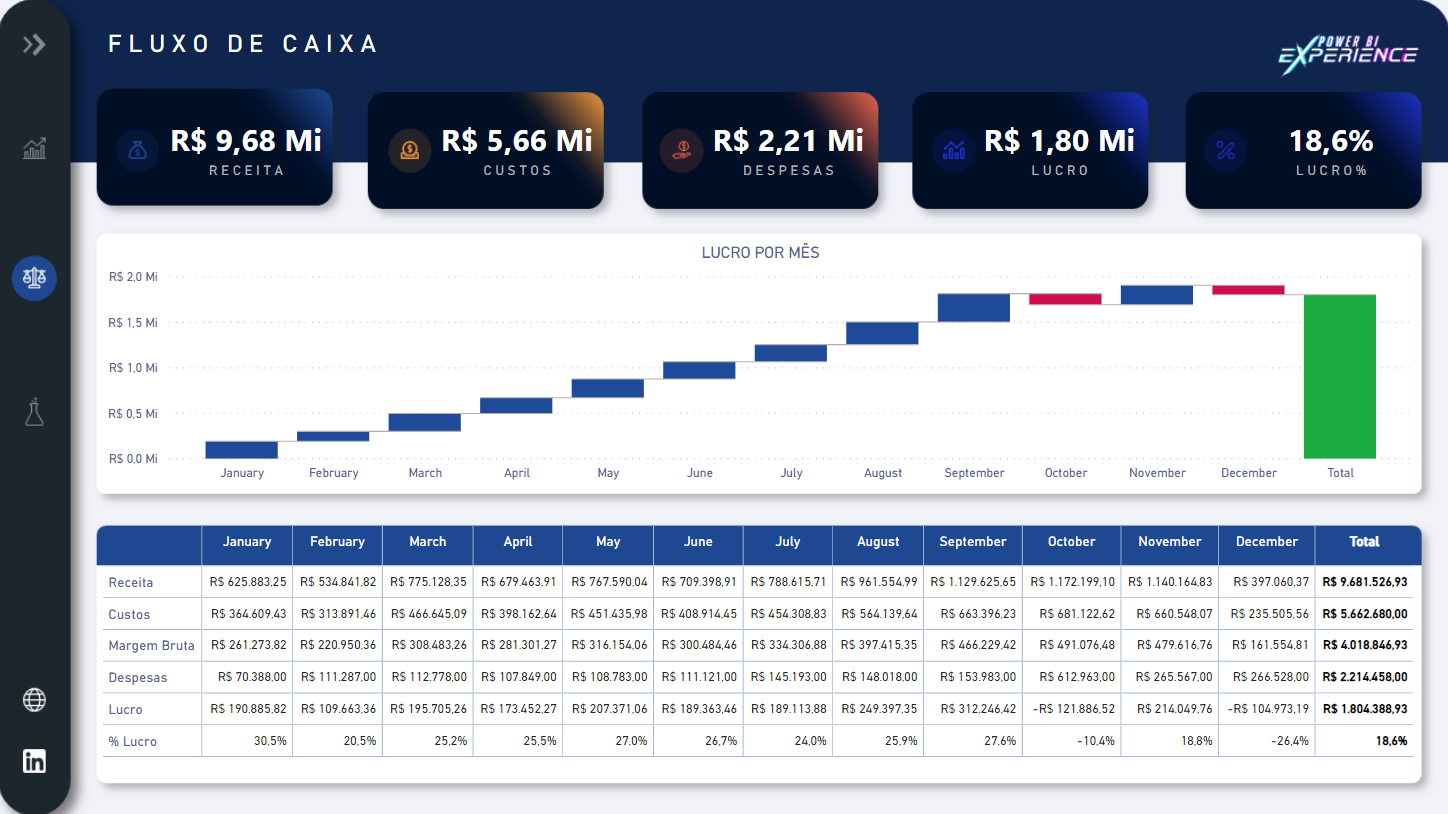

Layout of this report page (visuals, bound fields, positions):
{"tool":"powerbi","page":{"name":"Fluxo de caixa","canvas":[1280,720],"ordinal":3},"visuals":[{"type":"shape","box":[0,333.7,68.2,62.5],"z":0},{"type":"shape","box":[0,99.4,68.2,62.5],"z":1000},{"type":"card","fields":{"Values":["Medidas.Receita"]},"box":[119.3,90.9,184.6,78.1],"z":2000},{"type":"card","fields":{"Values":["Medidas.Custos"]},"box":[357.9,90.9,184.6,78.1],"z":3000},{"type":"card","fields":{"Values":["Medidas.Despesas"]},"box":[603.6,90.9,184.6,78.1],"z":4000},{"type":"card","fields":{"Values":["Medidas.Lucro"]},"box":[843.6,90.9,184.6,78.1],"z":5000},{"type":"card","fields":{"Values":["Medidas.% Lucro"]},"box":[1053.7,90.9,184.6,78.1],"z":6000},{"type":"waterfallChart","title":"LUCRO POR MÊS","fields":{"Y":["Medidas.Lucro"],"Category":["dCalendario.Mês"]},"box":[92.3,211.6,1160.2,221.5],"z":7000},{"type":"pivotTable","fields":{"Values":["Medidas.Receita","Medidas.Custos","Medidas.Margem Bruta","Medidas.Despesas","Medidas.Lucro","Medidas.% Lucro"],"Columns":["dCalendario.Mês"]},"box":[92.3,460.1,1160.2,224.4],"z":8000}]}

Visuals, with their boxes on the page's 1280x720 design canvas (x1, y1, x2, y2). These are canvas units, not pixel positions in the 1448x814 screenshot, which may show the page scaled, cropped or inside an application window:
shape: {"left": 0, "top": 334, "right": 68, "bottom": 396}
shape: {"left": 0, "top": 99, "right": 68, "bottom": 162}
card - Medidas.Receita: {"left": 119, "top": 91, "right": 304, "bottom": 169}
card - Medidas.Custos: {"left": 358, "top": 91, "right": 542, "bottom": 169}
card - Medidas.Despesas: {"left": 604, "top": 91, "right": 788, "bottom": 169}
card - Medidas.Lucro: {"left": 844, "top": 91, "right": 1028, "bottom": 169}
card - Medidas.% Lucro: {"left": 1054, "top": 91, "right": 1238, "bottom": 169}
"LUCRO POR MÊS" waterfallChart: {"left": 92, "top": 212, "right": 1252, "bottom": 433}
pivotTable - Medidas.Receita x Medidas.Custos: {"left": 92, "top": 460, "right": 1252, "bottom": 684}
